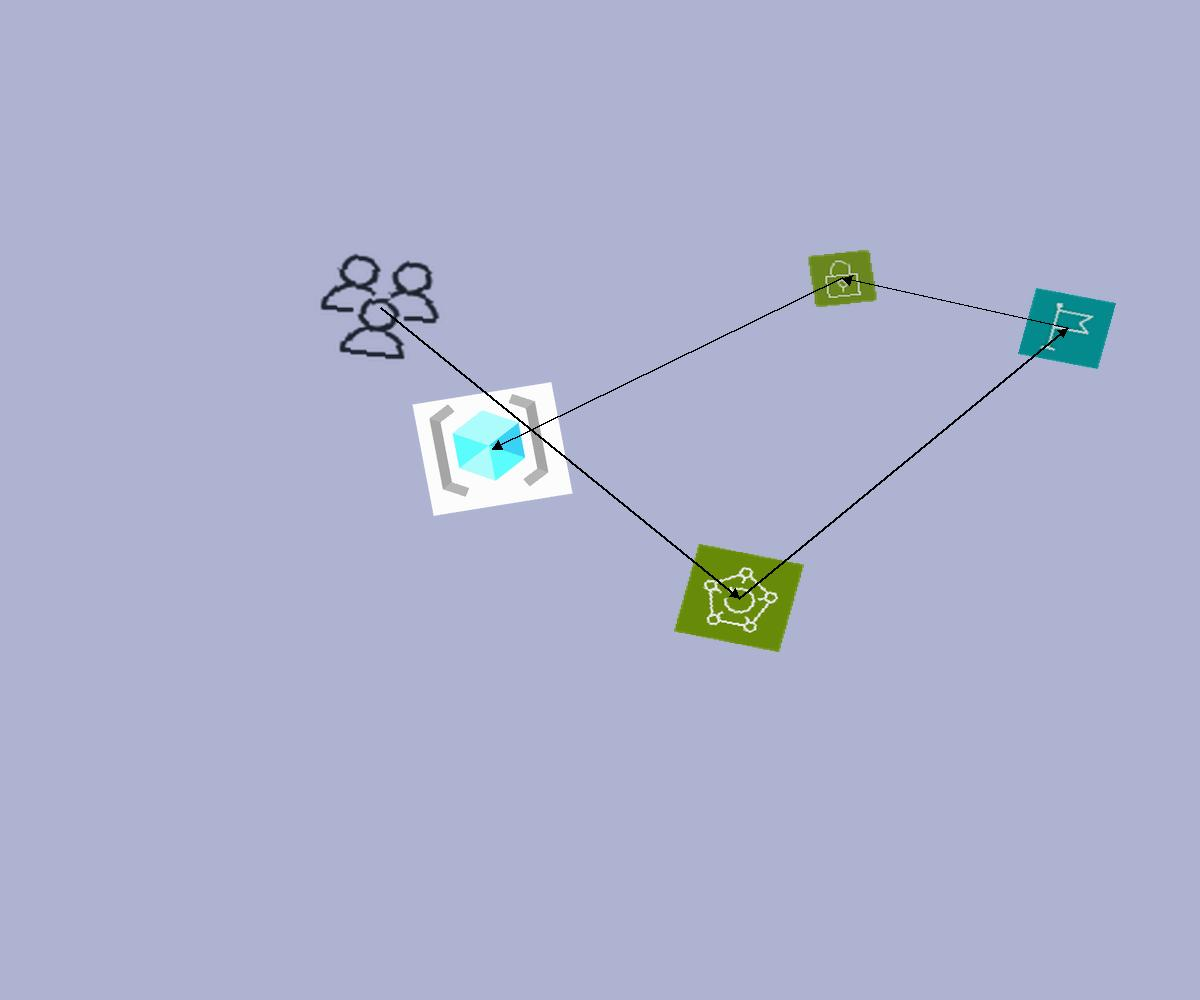AWS-Backup: (673, 543, 805, 653)
AWS-Public-subnet: (807, 249, 878, 308)
AWS-Region: (1018, 288, 1116, 369)
AWS-Res_Users: (305, 245, 455, 370)
Azure_resource_group: (412, 382, 573, 516)
